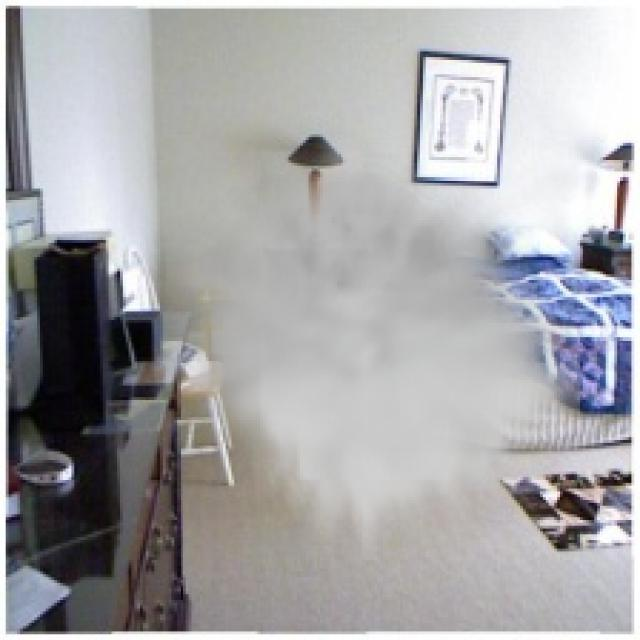smoke: (166, 137, 580, 560)
